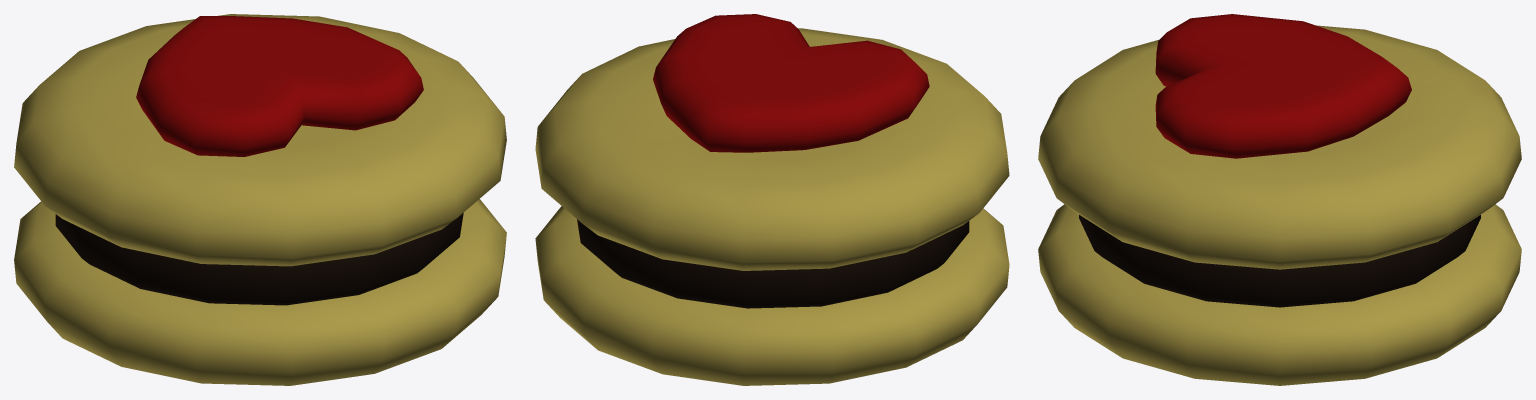
The model's file is Cookies_4.FBX.
The picture shows the model from 3 angles, left to right: view 1: azimuth 30°, elevation 25°; view 2: azimuth 150°, elevation 25°; view 3: azimuth 270°, elevation 25°; orthographic projection. The views are drawn at different scales.
Visible parts, largest first — view 1: Cookies_4; view 2: Cookies_4; view 3: Cookies_4.
Boxes of the visible parts, x1,y1,x2,y2 form: Cookies_4: [14, 14, 506, 385]; Cookies_4: [535, 14, 1009, 385]; Cookies_4: [1038, 14, 1521, 385].
Size of the model in its own units: 991 by 991 by 538.
